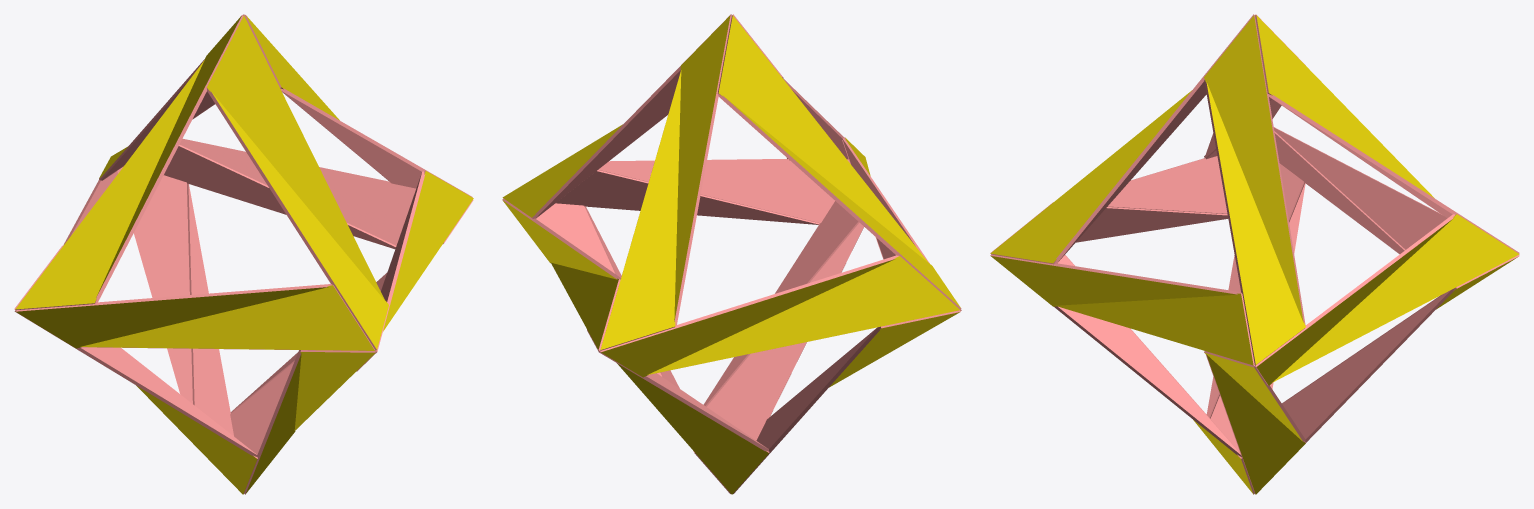
File: Octahedron1.glb
3 renders of one model, left to right at view 1: azimuth 30°, elevation 25°; view 2: azimuth 150°, elevation 25°; view 3: azimuth 270°, elevation 25°, orthographic.
Visible parts, largest first — view 1: root; view 2: root; view 3: root.
Boxes of the visible parts, left/top/right/bottom form: root: left=14, top=14, right=473, bottom=494; root: left=502, top=14, right=961, bottom=494; root: left=990, top=14, right=1519, bottom=494.
Size of the model in its own units: 1.42 by 1.42 by 1.42.
